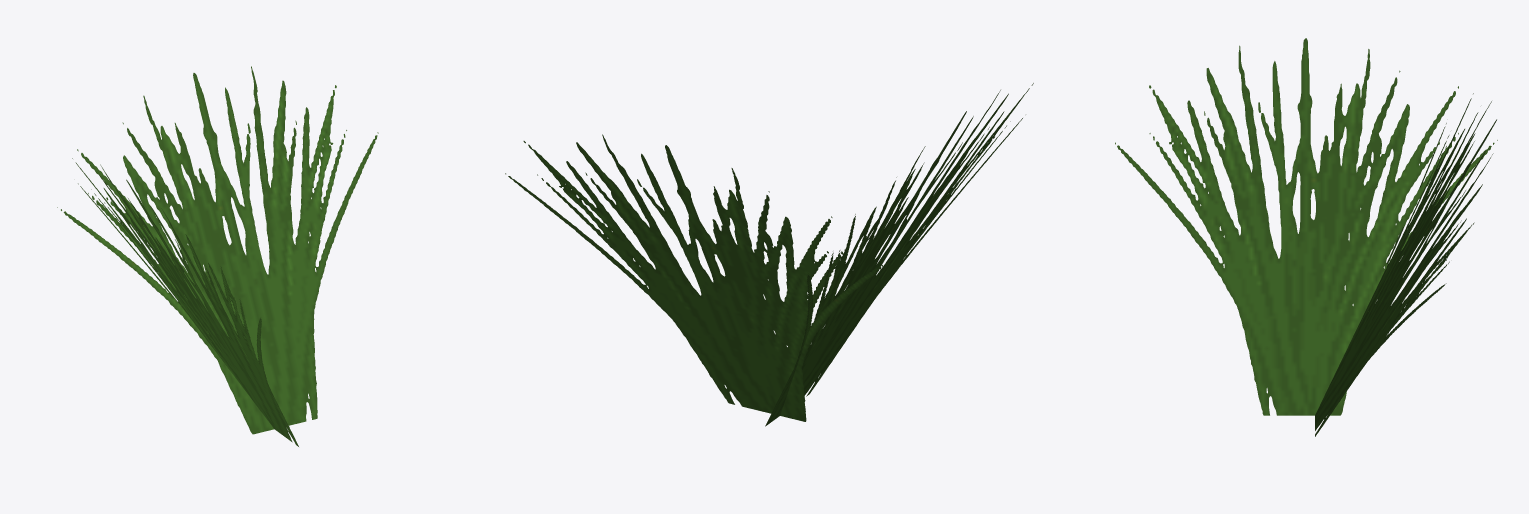
File: gras_wispy_a.glb
The picture shows the model from 3 angles, left to right: view 1: azimuth 30°, elevation 25°; view 2: azimuth 150°, elevation 25°; view 3: azimuth 270°, elevation 25°; orthographic projection. The views are drawn at different scales.
Parts seen in each view (by area): view 1: gras; view 2: gras; view 3: gras.
Boxes of the visible parts, box(x1,y1,x2,y2) form: gras: box(57, 66, 378, 446); gras: box(505, 83, 1033, 426); gras: box(1115, 38, 1497, 436).
Size of the model in its own units: 0.8 by 0.7 by 0.8.
1 material, 1 textured.
